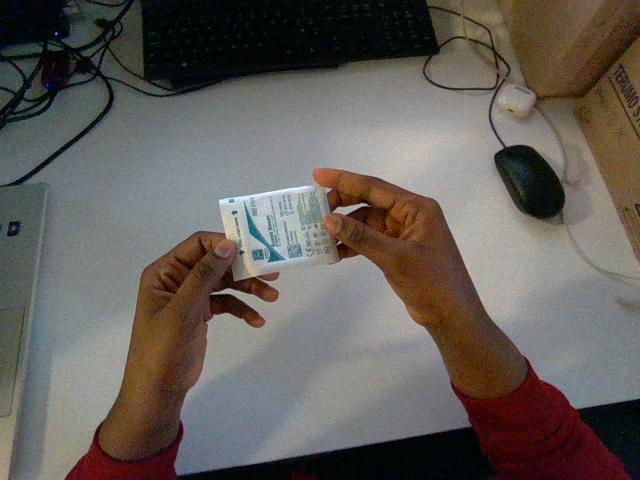gauze: (219, 186, 339, 281)
